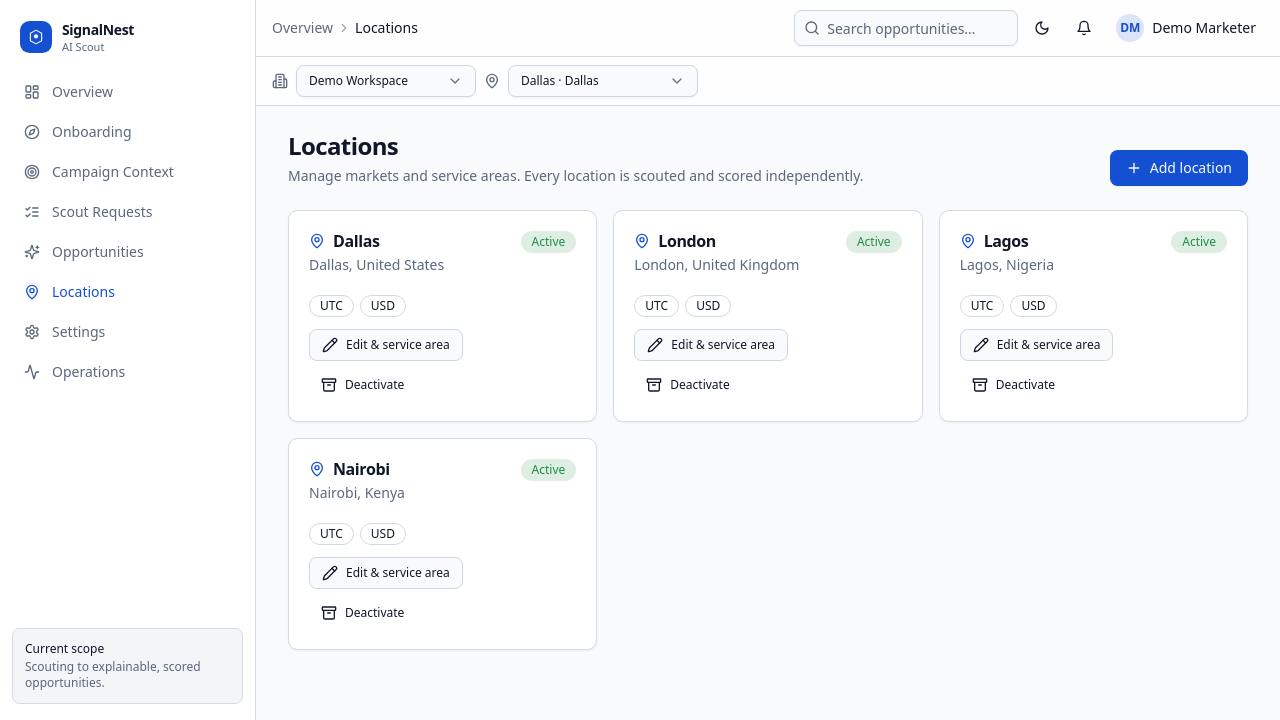
Scenario: locations › populates the edit dialog from the selected location
// Fixtures list Dallas first (see test/handlers CITIES order).
Click the button "Edit & service area" below "Dallas, United States": [386, 345] box 309,329 -> 463,361
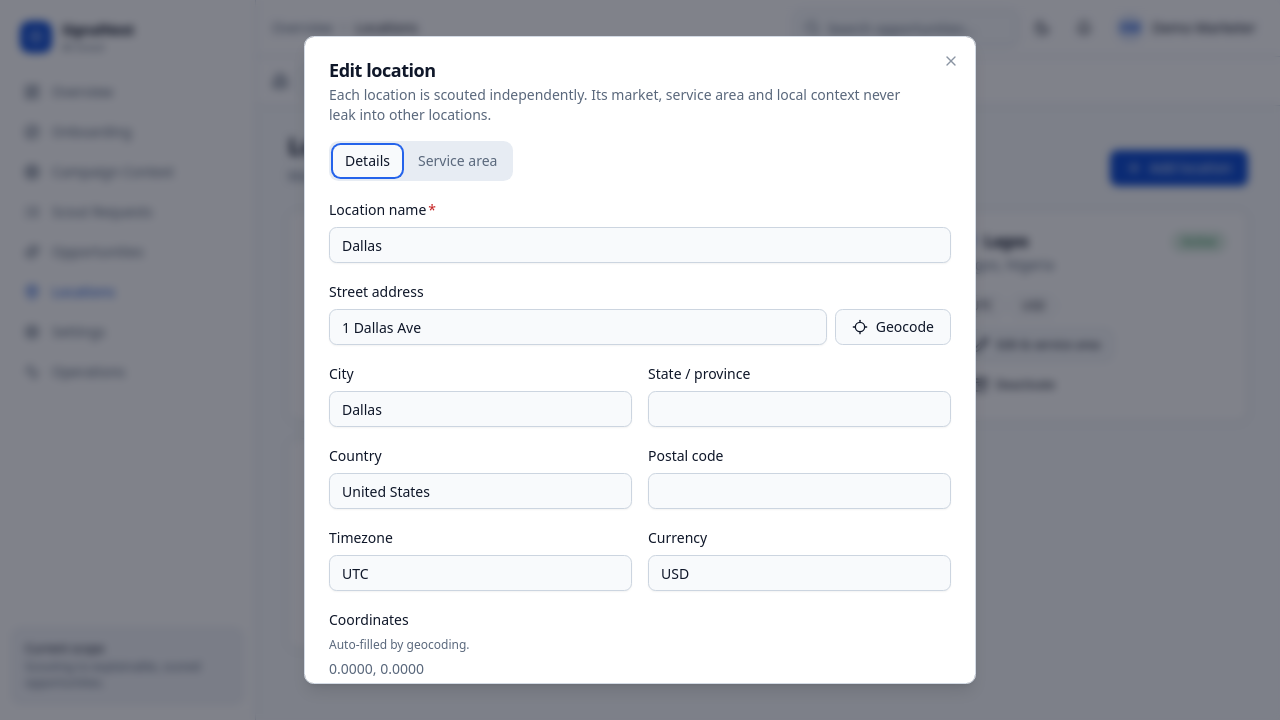
Result: the field labelled "Location name*" holds "Dallas" at 329,227 -> 951,263
